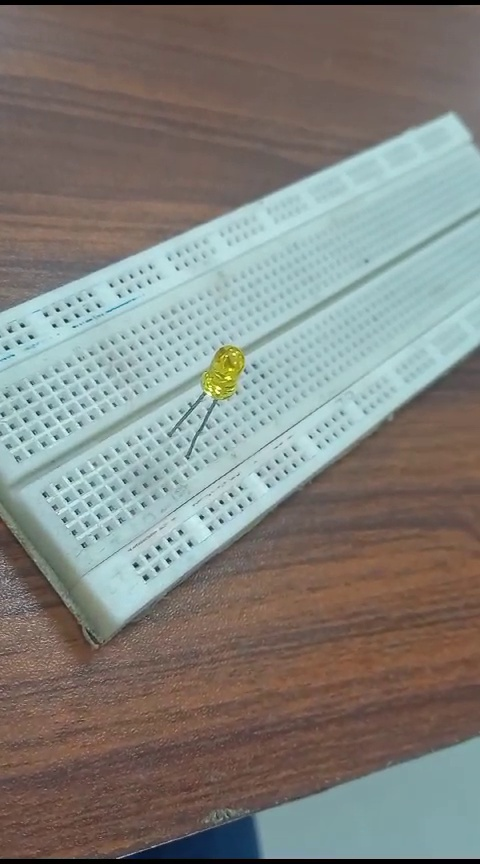LED: (176, 339, 239, 453)
